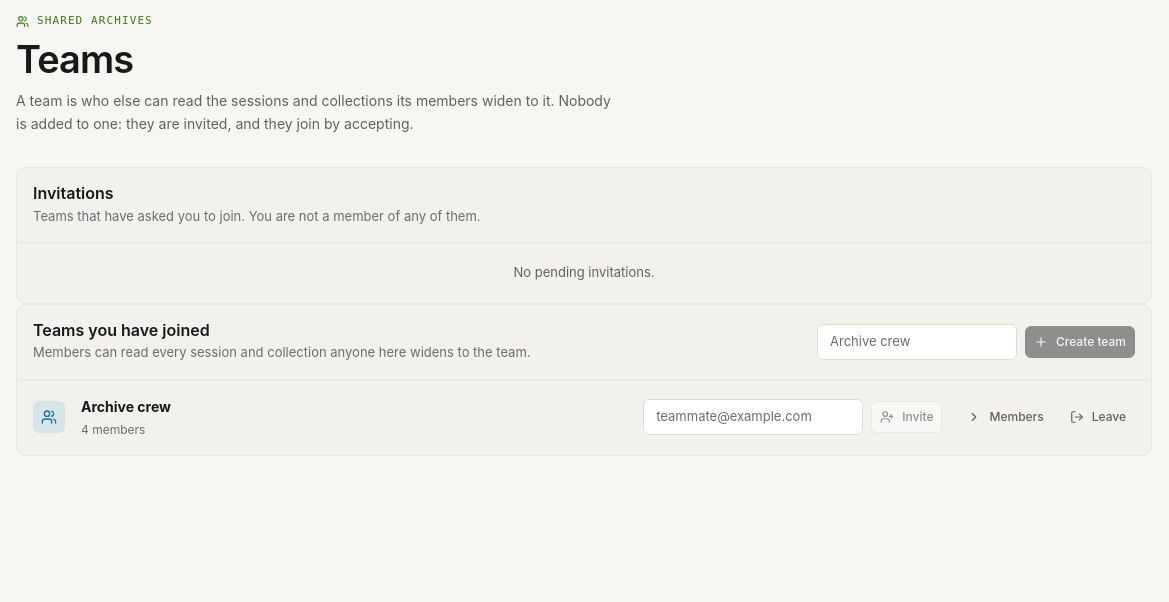
a team's roster › reads the roster only when asked, and asserts nobody before it arrives
The image size is (1169, 602).
Expected: the text "Archive crew" is shown, [81,398,171,415]
Click the button "Members" at (1006, 417), box [958,401,1053,433]
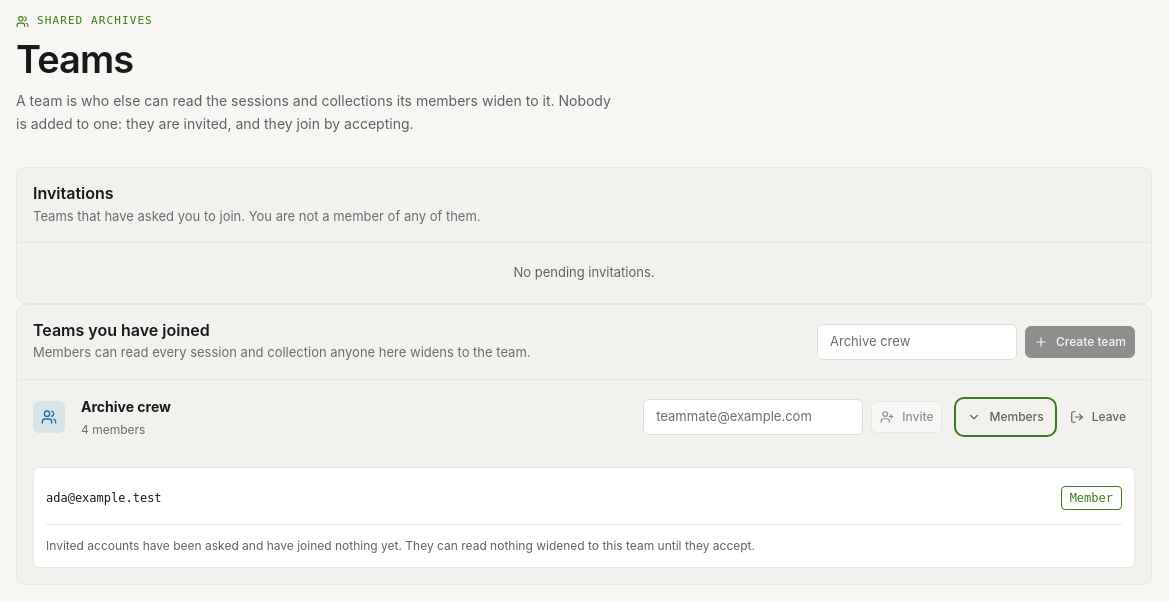
Expected: the text "ada@example.test" is shown, [46,489,162,507]
